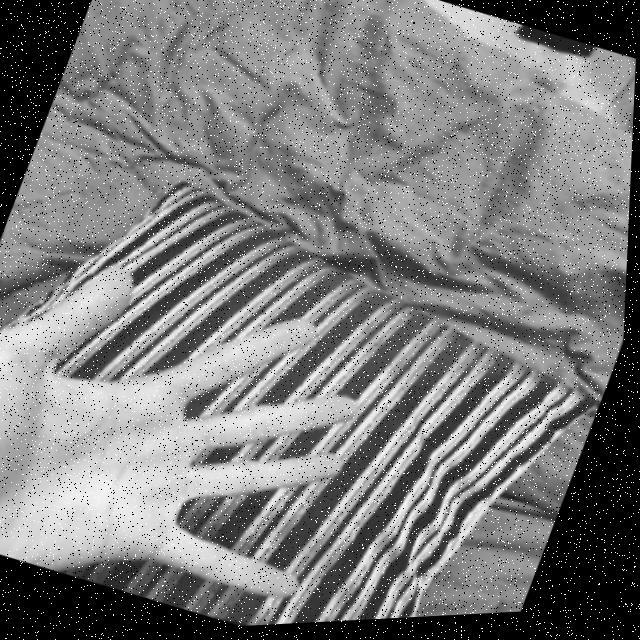no-gloves: (0, 178, 414, 640)
